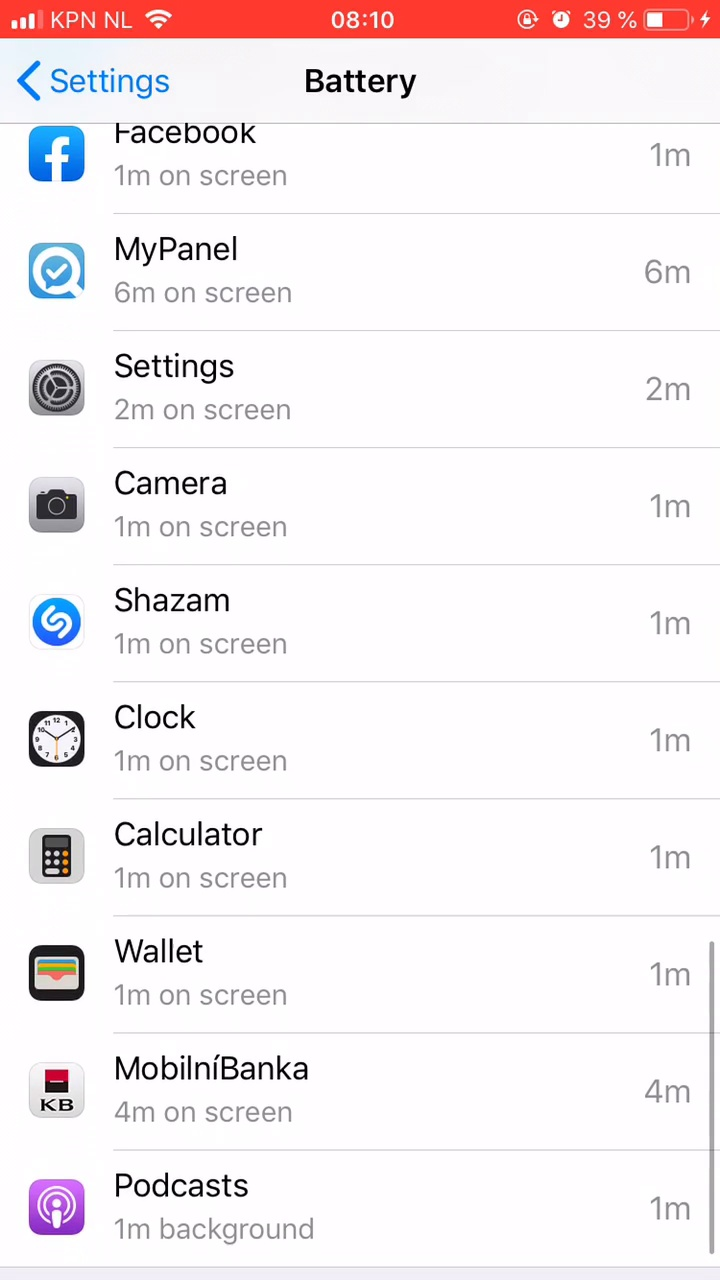app: (23, 233, 709, 319), (19, 342, 705, 428), (24, 466, 710, 552), (20, 576, 706, 662), (21, 690, 707, 776), (16, 807, 702, 893), (19, 940, 705, 1026), (19, 1049, 705, 1135), (15, 1157, 701, 1243)
